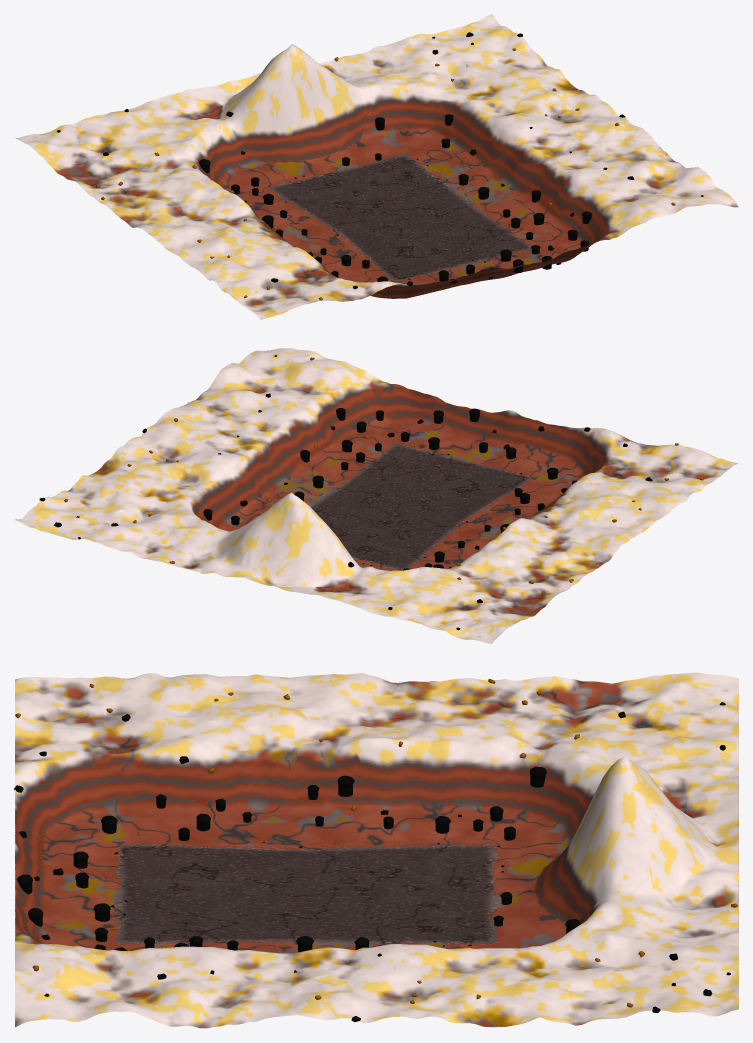
File: surroundings_13x23.glb
3 renders of one model, top to bottom at view 1: azimuth 30°, elevation 25°; view 2: azimuth 150°, elevation 25°; view 3: azimuth 270°, elevation 25°, orthographic. The views are drawn at different scales.
Parts seen in each view (by area): view 1: ground, props; view 2: ground, props; view 3: ground, props.
Part boxes in pixels (left/top/right/bottom): ground: left=14, top=14, right=738, bottom=319; props: left=57, top=32, right=703, bottom=300; ground: left=14, top=348, right=738, bottom=643; props: left=39, top=355, right=703, bottom=630; ground: left=15, top=672, right=738, bottom=1028; props: left=14, top=679, right=738, bottom=1021.
Size of the model in its own units: 57.32 by 10.98 by 51.07.
2 materials, 2 textured.
